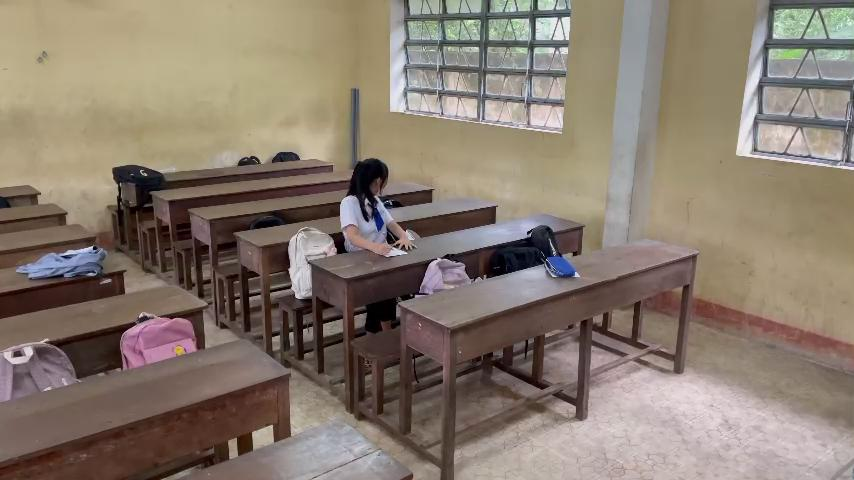Look Around: (348, 153, 395, 206)
